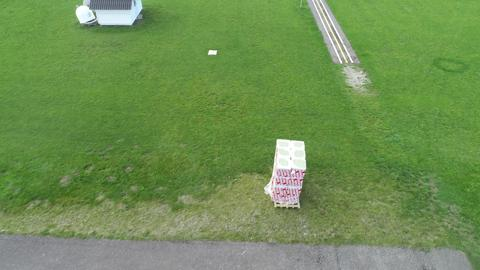RockwoolPallet: (272, 136, 305, 206)
